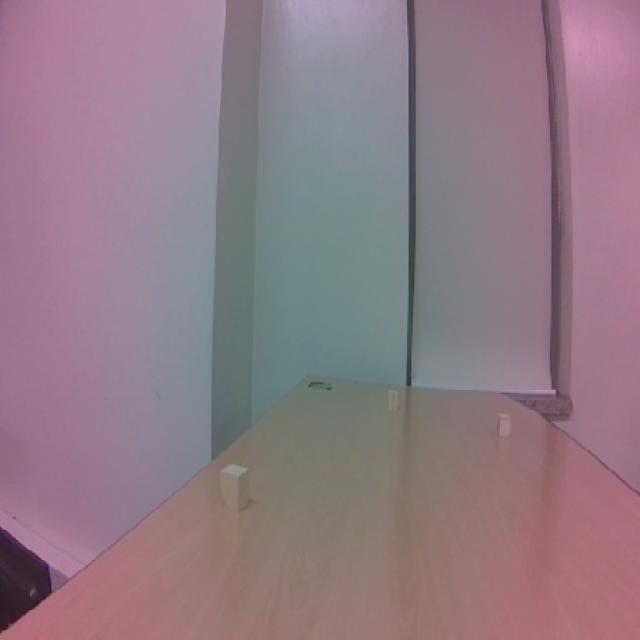obstacle: (201, 459, 268, 516), (488, 409, 524, 441), (381, 385, 410, 417)
